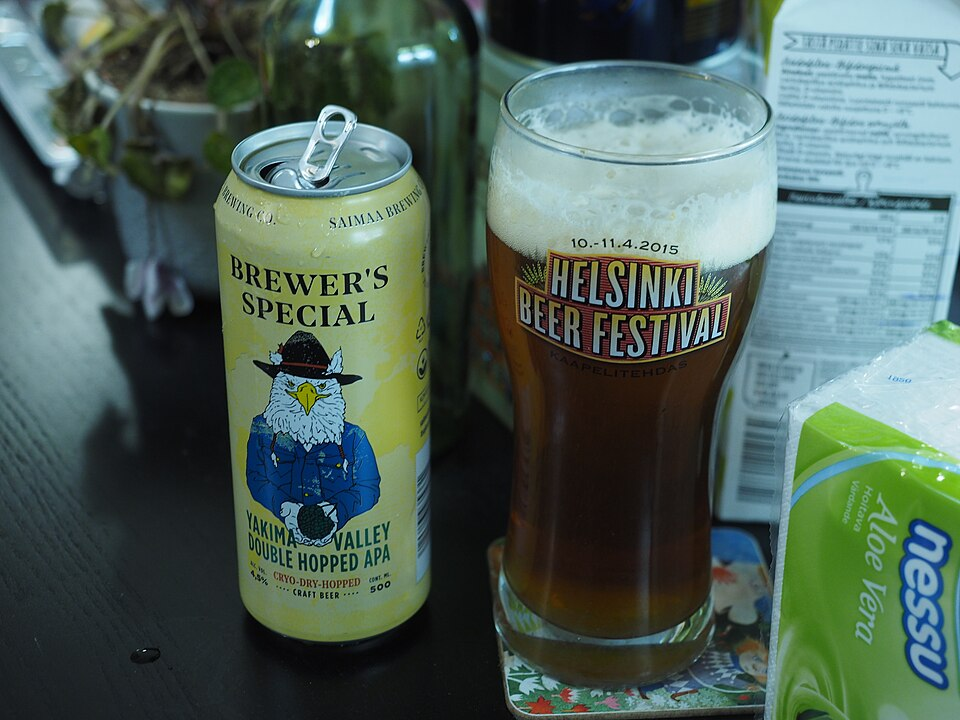beer-can: (212, 92, 441, 666)
